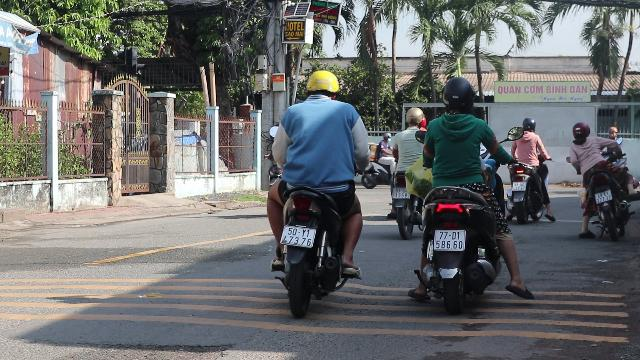helmet: (439, 75, 476, 117), (304, 69, 340, 99), (570, 122, 590, 142), (403, 107, 422, 127), (520, 116, 536, 132)
licenseplate: (280, 226, 316, 246), (434, 230, 466, 250), (594, 190, 612, 204), (392, 188, 408, 198), (512, 182, 526, 190)
motorcyclist: (260, 65, 372, 311), (409, 74, 525, 310), (565, 122, 637, 240), (384, 106, 430, 236), (507, 115, 551, 222)
